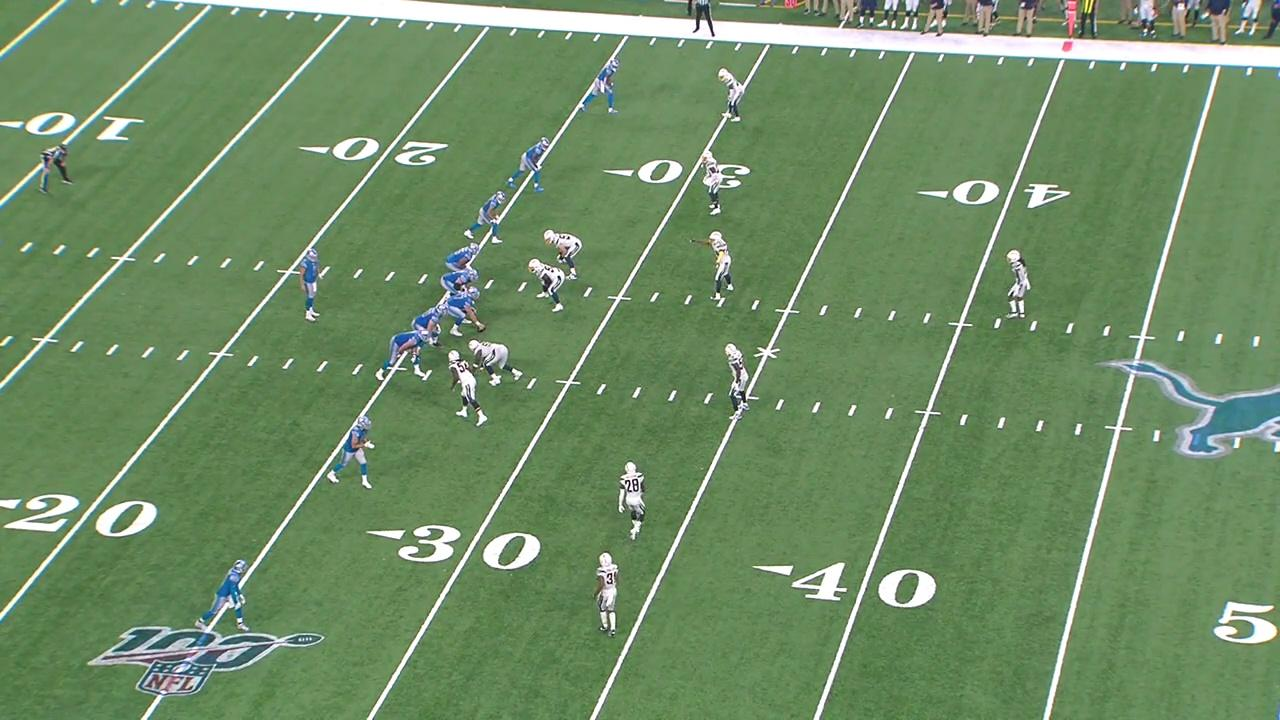player: (196, 554, 249, 640), (326, 414, 375, 493), (372, 327, 429, 383), (696, 232, 738, 302), (449, 350, 488, 424), (592, 553, 625, 638), (502, 136, 553, 191), (578, 55, 623, 117), (615, 464, 650, 539), (468, 338, 525, 382), (722, 345, 756, 414), (526, 256, 571, 308), (465, 191, 508, 244), (442, 287, 486, 334), (296, 246, 321, 321), (1005, 249, 1031, 321), (543, 228, 586, 271), (699, 148, 724, 219), (718, 66, 745, 123), (411, 305, 447, 344), (447, 242, 479, 269), (443, 268, 478, 292)
ref: (32, 140, 72, 193), (688, 0, 717, 37)
